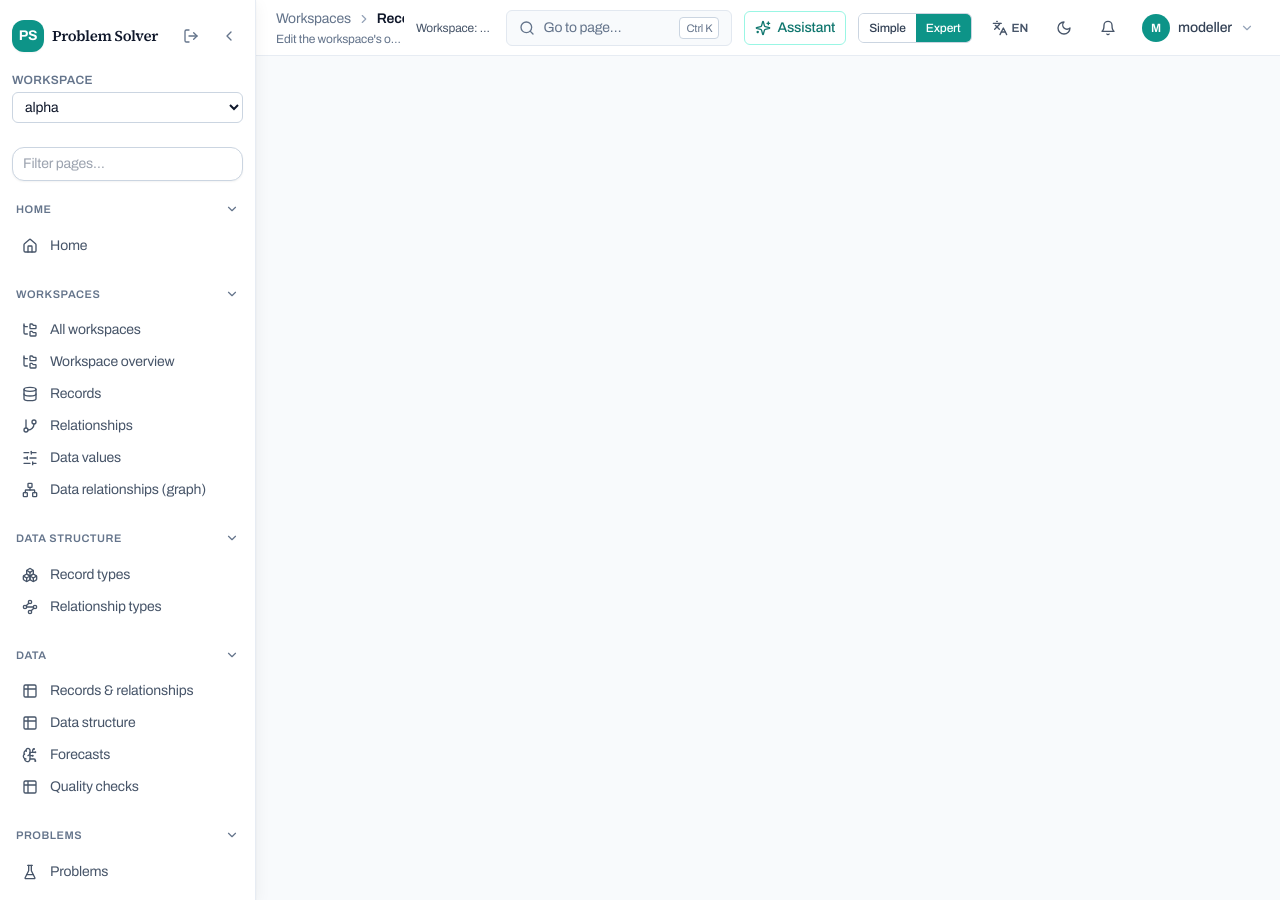
Test: AppShell › matches the filter against the group name too
Type "admin" into the search field with placeholder "Filter pages…" at (128, 164), box [12, 147, 243, 181]
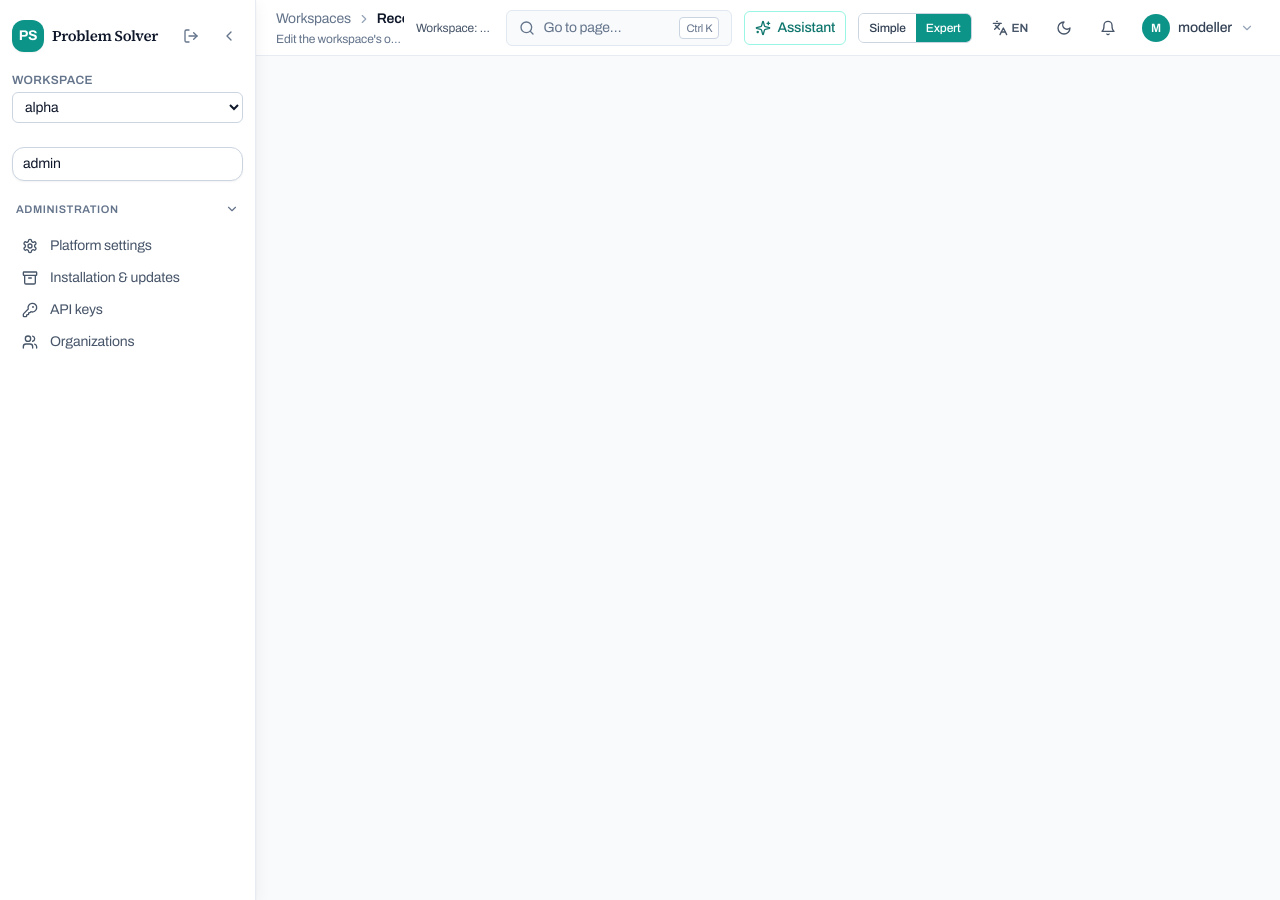
Expected: the link "Organizations" is shown, [22, 334, 134, 350]
Expected: the link "All workspaces" is gone
